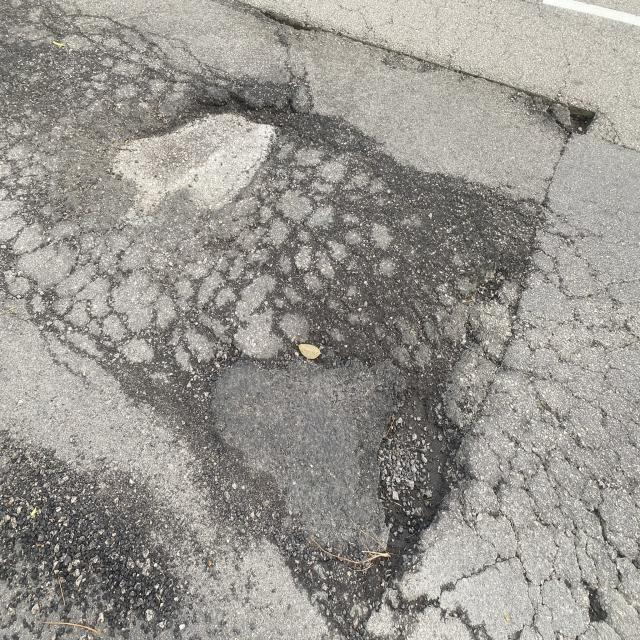Pothole: (342, 372, 526, 581), (167, 62, 326, 150), (497, 59, 627, 154)
